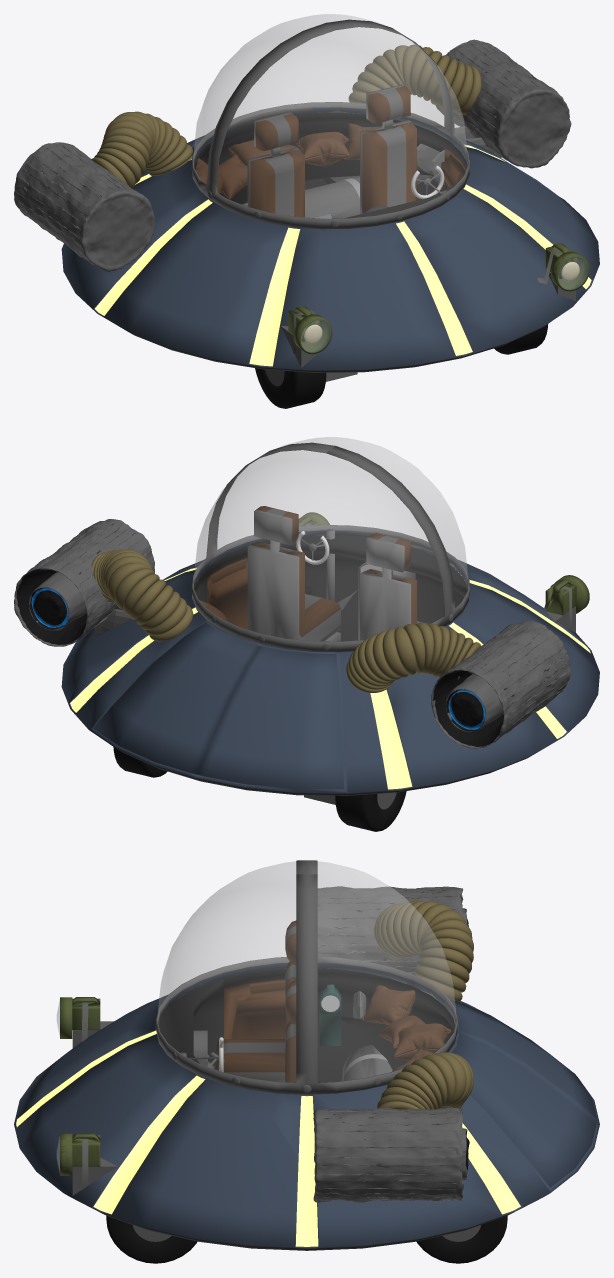
Rendered from ovni.glb.
3 views of the same model, one above another, from view 1: azimuth 30°, elevation 25°; view 2: azimuth 150°, elevation 25°; view 3: azimuth 270°, elevation 25° (orthographic). The views are drawn at different scales.
Parts seen in each view (by area): view 1: Object_23, Object_3, Object_12, Object_26, Object_16, Object_21, Object_17, Object_24, Object_5, Object_18, Object_10, Object_11 (+5 smaller); view 2: Object_23, Object_3, Object_12, Object_16, Object_6, Object_26, Object_10, Object_24, Object_21, Object_17, Object_11, Object_22 (+2 smaller); view 3: Object_23, Object_3, Object_12, Object_26, Object_16, Object_24, Object_17, Object_21, Object_10, Object_18, Object_11, Object_13 (+3 smaller).
Boxes of the visible parts, x1,y1,x2,y2 form: Object_23: (61, 107, 599, 370); Object_3: (194, 14, 467, 218); Object_12: (14, 39, 571, 354); Object_26: (191, 19, 470, 381); Object_16: (91, 44, 481, 188); Object_21: (250, 86, 465, 217); Object_17: (95, 144, 591, 366); Object_24: (194, 112, 467, 218); Object_5: (264, 88, 406, 216); Object_18: (194, 122, 394, 199); Object_10: (255, 324, 547, 408); Object_11: (288, 243, 589, 354); Object_23: (61, 530, 599, 793); Object_3: (194, 437, 467, 641); Object_12: (14, 519, 572, 748); Object_16: (91, 549, 481, 692); Object_6: (247, 510, 411, 641); Object_26: (191, 442, 470, 804); Object_10: (16, 569, 503, 831); Object_24: (194, 535, 467, 641); Object_21: (207, 506, 416, 637); Object_17: (70, 567, 590, 789); Object_11: (298, 512, 589, 615); Object_22: (119, 581, 532, 795); Object_23: (14, 962, 599, 1247); Object_3: (158, 861, 455, 1082); Object_12: (81, 886, 467, 1202); Object_26: (155, 860, 458, 1094); Object_16: (374, 901, 473, 1109); Object_24: (159, 968, 454, 1082); Object_17: (16, 1030, 520, 1246); Object_21: (216, 920, 296, 1082); Object_10: (106, 909, 507, 1263); Object_18: (361, 985, 451, 1070); Object_11: (60, 997, 100, 1175); Object_13: (72, 991, 481, 1241).
Bounding box in the file's own units: 3.52 × 2.04 × 3.34.
